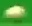white: (0, 0, 32, 26)
